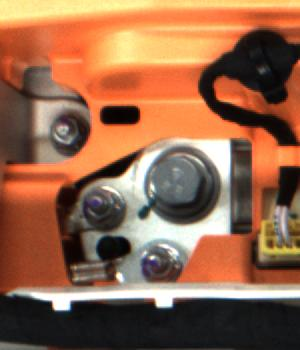nut_b: (142, 138, 225, 229)
screw_s: (82, 186, 126, 234), (142, 239, 185, 285), (47, 110, 84, 152)
